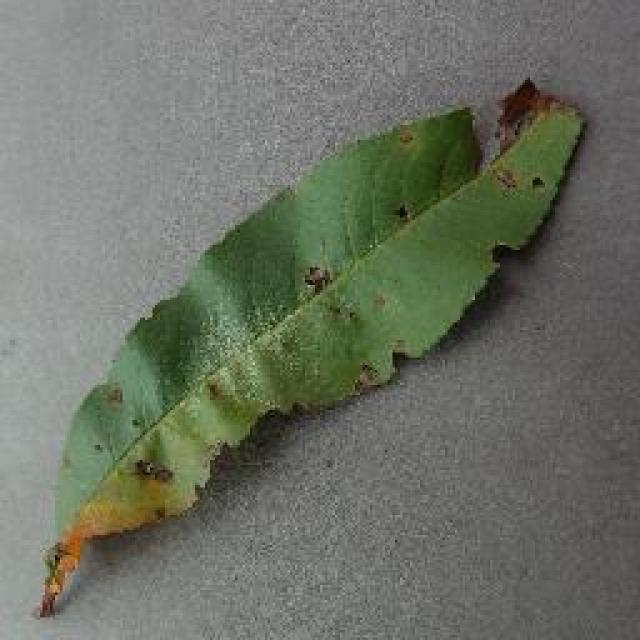Peach_Bacterial_Spot: (148, 162, 460, 526)
